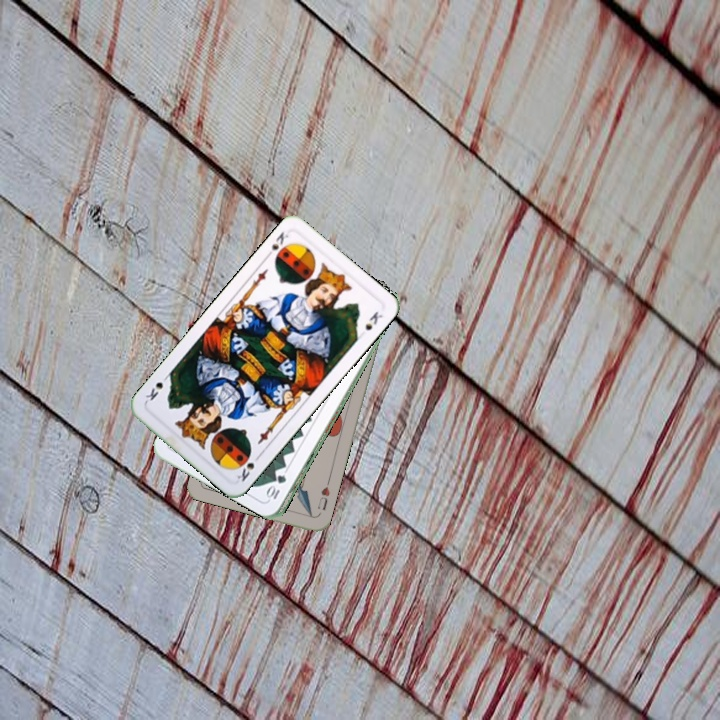G10: (265, 470, 289, 502)
HU: (313, 483, 332, 513)
SK: (233, 450, 264, 484), (262, 228, 291, 261)
